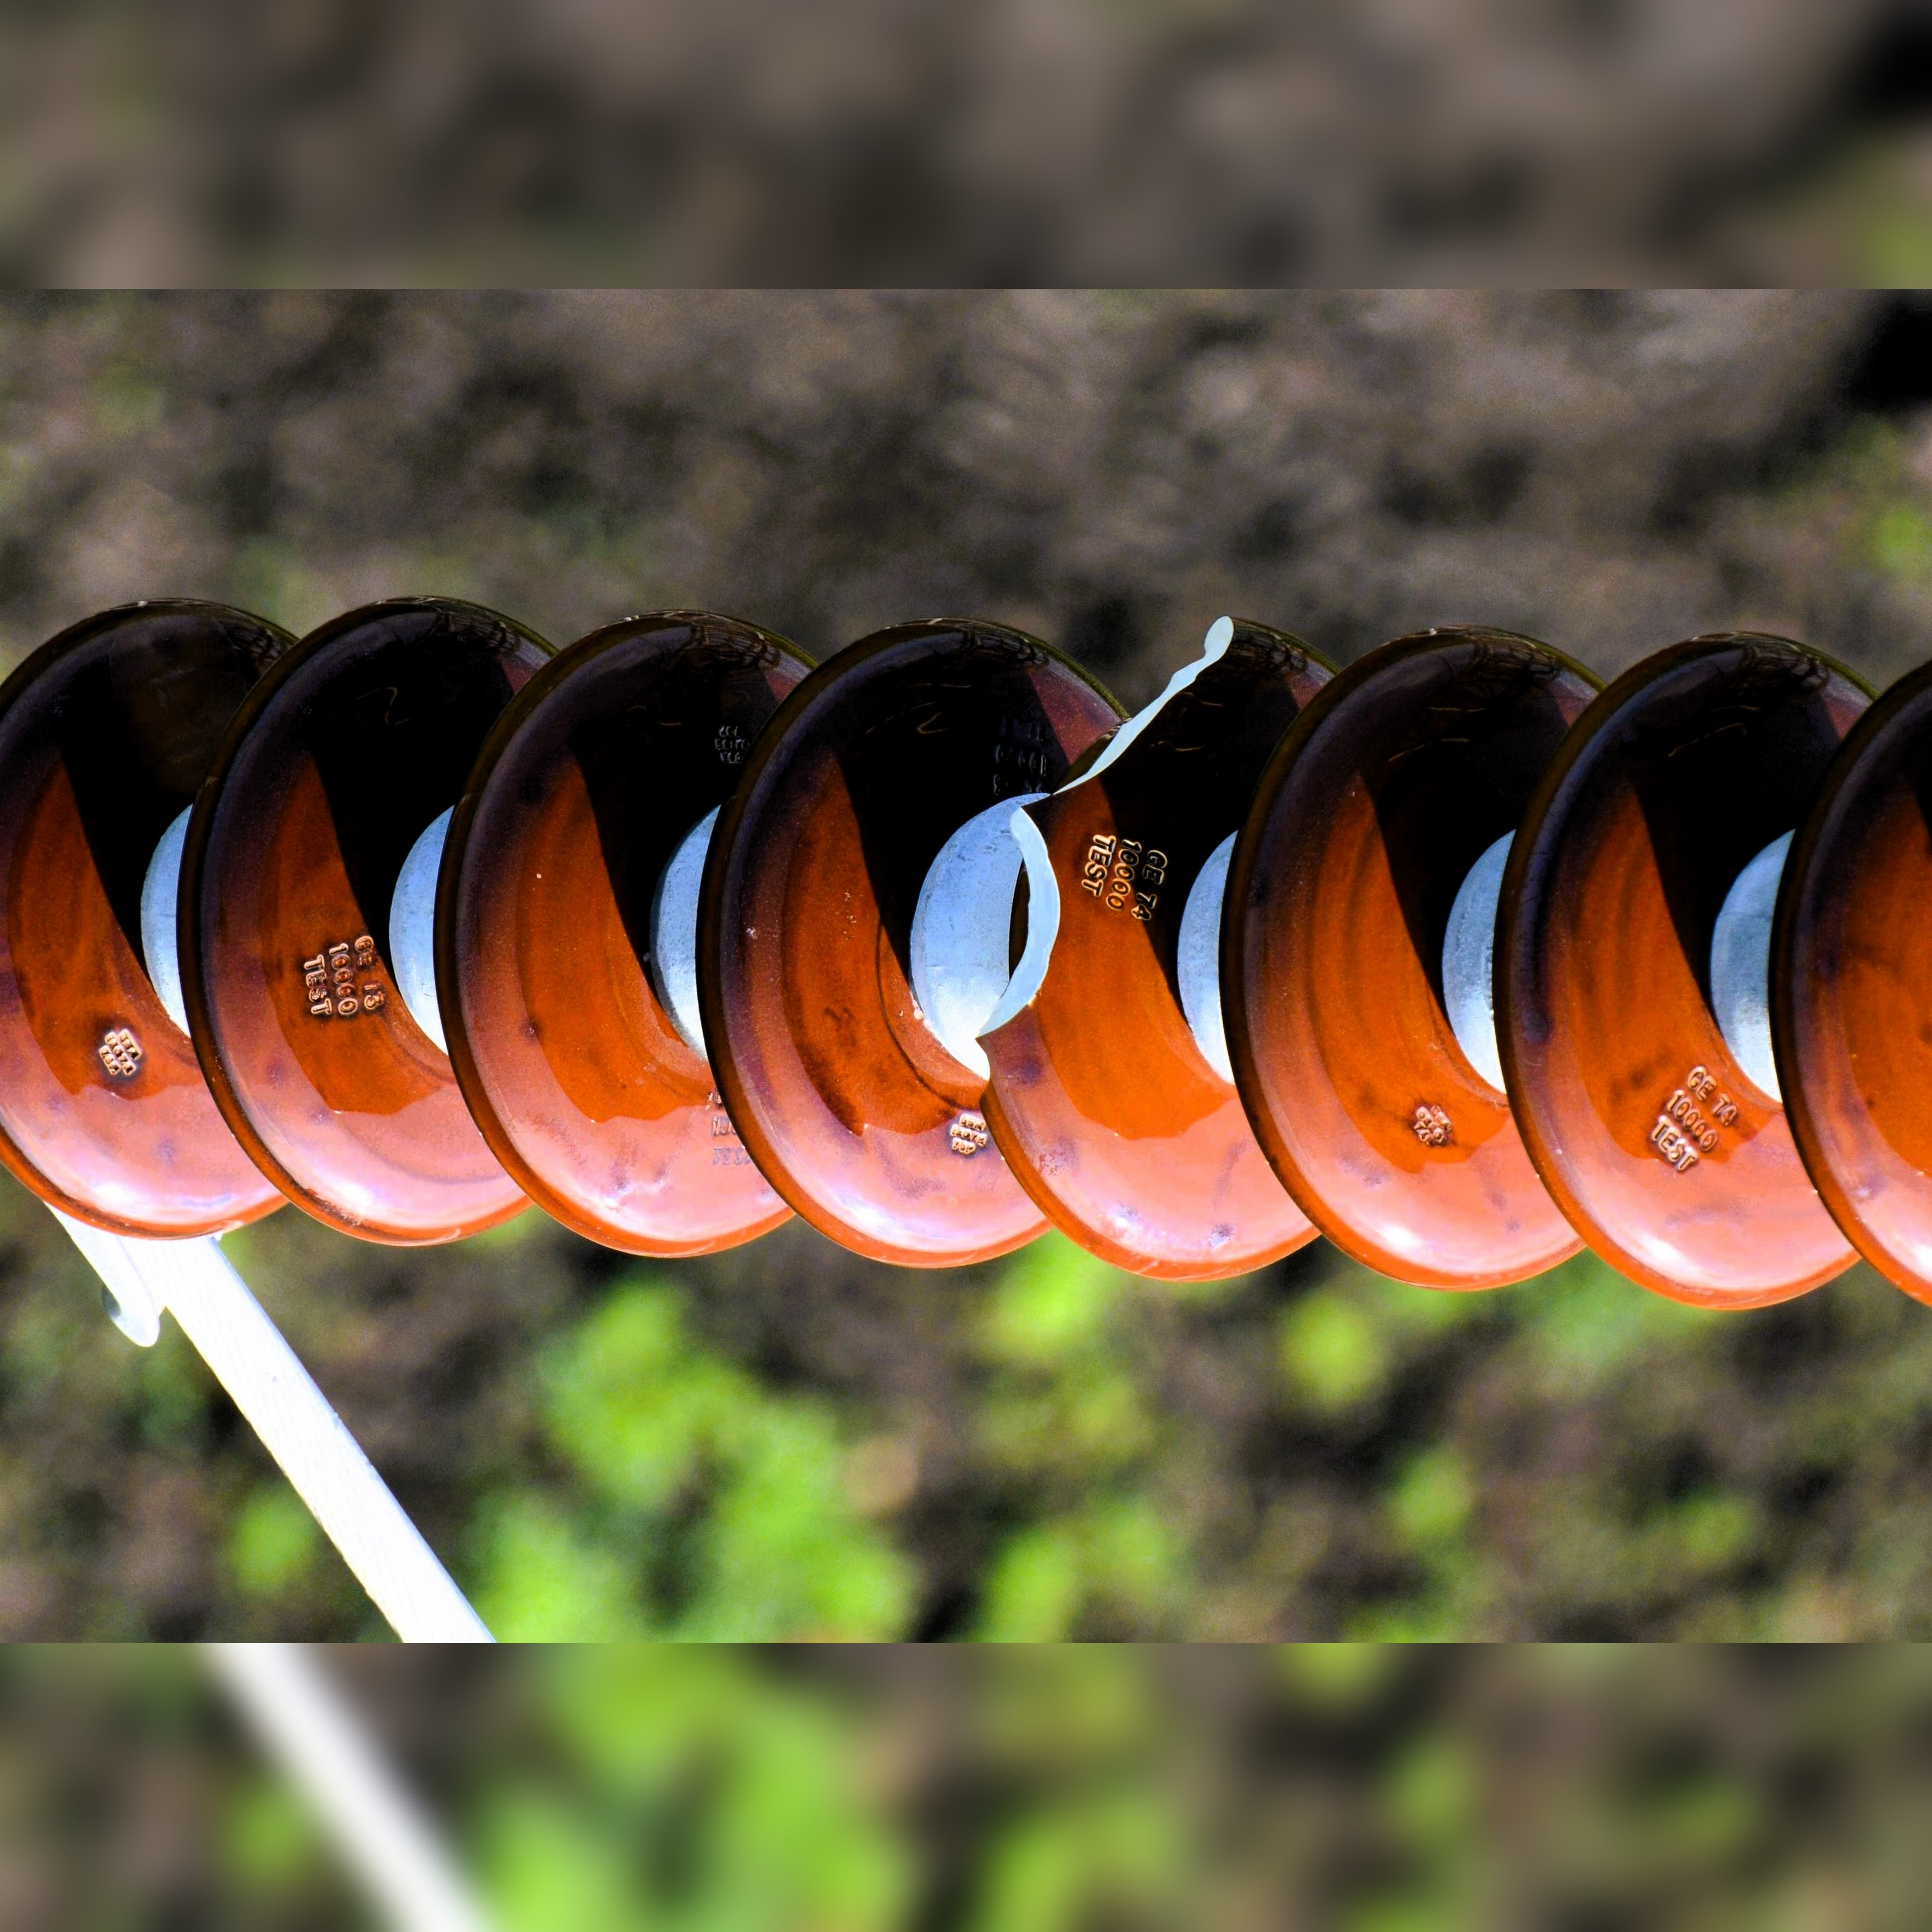insulator breakage: (943, 605, 1348, 1290)
